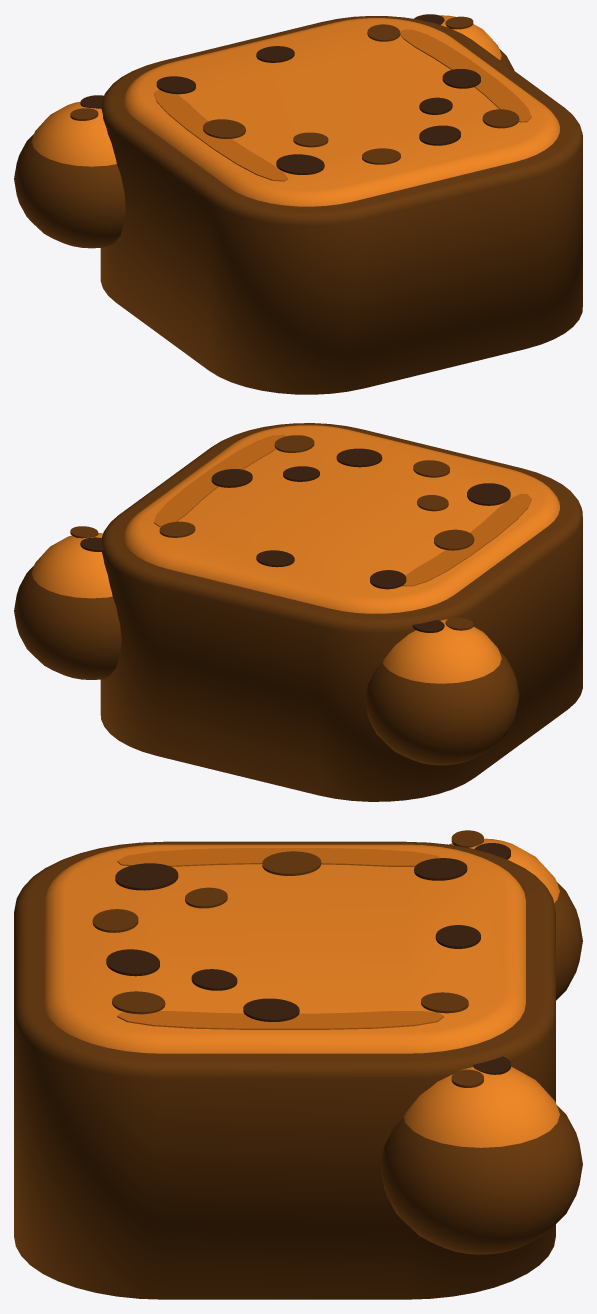
File: body_estampa_biscoito.fbx
The picture shows the model from 3 angles, top to bottom: view 1: azimuth 30°, elevation 25°; view 2: azimuth 150°, elevation 25°; view 3: azimuth 270°, elevation 25°; orthographic projection. The views are drawn at different scales.
Visible parts, largest first — view 1: body_estampa_biscoito_corpo, body_estampa_biscoito_mao_esq, body_estampa_biscoito_mao; view 2: body_estampa_biscoito_corpo, body_estampa_biscoito_mao_esq, body_estampa_biscoito_mao; view 3: body_estampa_biscoito_corpo, body_estampa_biscoito_mao, body_estampa_biscoito_mao_esq.
Boxes of the visible parts, x1,y1,x2,y2 form: body_estampa_biscoito_corpo: [100, 16, 582, 394]; body_estampa_biscoito_mao_esq: [14, 95, 125, 248]; body_estampa_biscoito_mao: [414, 14, 514, 70]; body_estampa_biscoito_corpo: [100, 423, 582, 801]; body_estampa_biscoito_mao_esq: [365, 617, 519, 765]; body_estampa_biscoito_mao: [14, 526, 121, 679]; body_estampa_biscoito_corpo: [14, 841, 555, 1299]; body_estampa_biscoito_mao: [380, 1056, 582, 1254]; body_estampa_biscoito_mao_esq: [449, 830, 582, 1000].
Bounding box in the file's own units: 5.4 × 2.03 × 4.2.
1 material, 1 textured.
